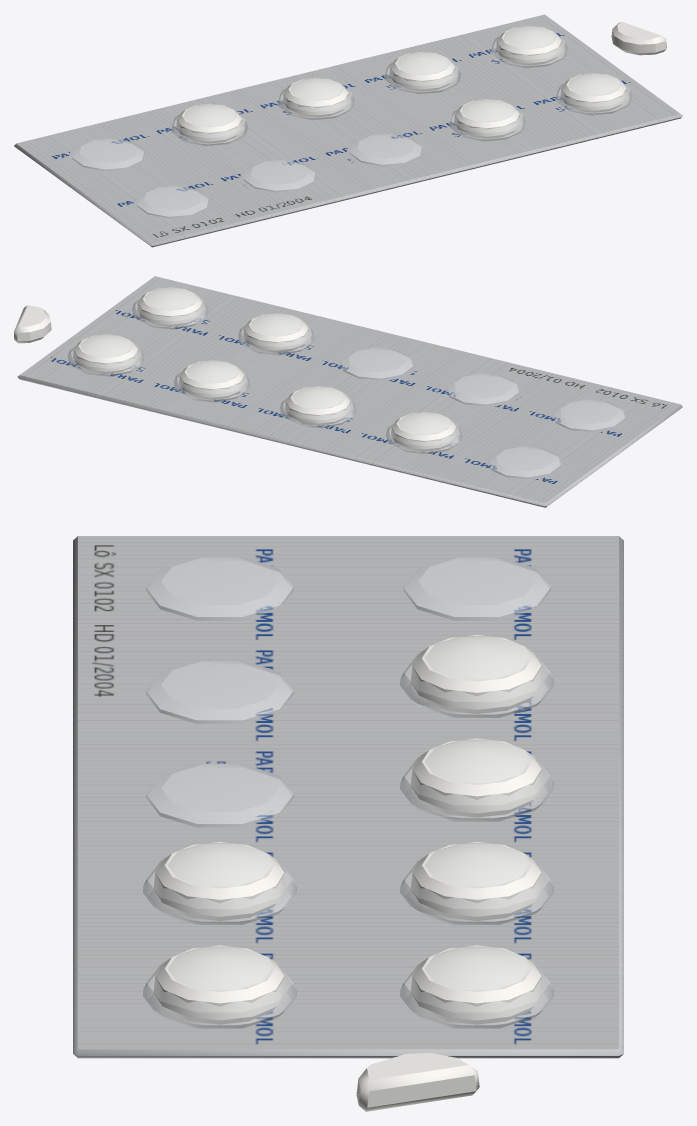
The model's file is ViThuoc_HaSot.glb.
The picture shows the model from 3 angles, top to bottom: view 1: azimuth 30°, elevation 25°; view 2: azimuth 150°, elevation 25°; view 3: azimuth 270°, elevation 25°; orthographic projection. The views are drawn at different scales.
Visible parts, largest first — view 1: ViThuoc_HaSot; view 2: ViThuoc_HaSot; view 3: ViThuoc_HaSot.
Boxes of the visible parts, x1=… form: ViThuoc_HaSot: x1=14, y1=14, x2=682, y2=247; ViThuoc_HaSot: x1=14, y1=276, x2=682, y2=507; ViThuoc_HaSot: x1=73, y1=536, x2=623, y2=1111.
Bounding box in the file's own units: 0.1106 × 0.00496 × 0.045.
Materials: 4 (1 with a texture image).
